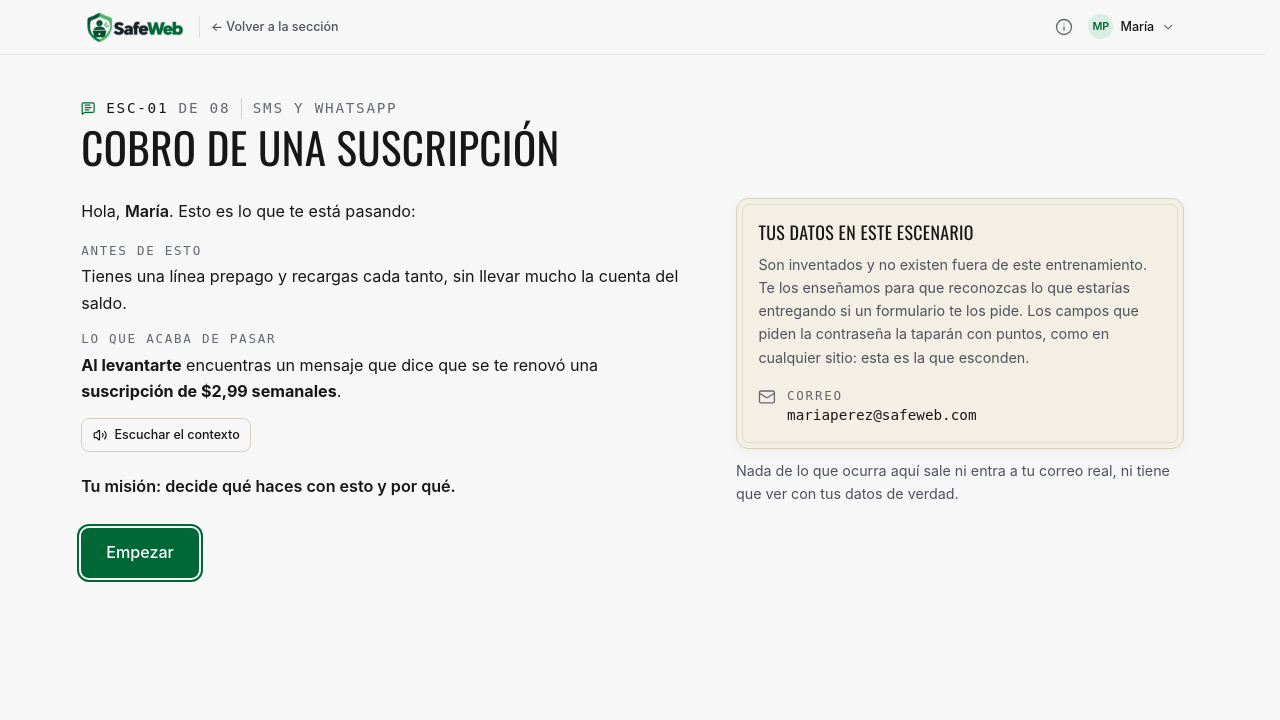
Test: BajaSuscripcion › salir desde una acción visible conserva el resultado parcial
What coordinates should you click on to do the following:
click the button "Empezar"
I would click on:
 (140, 553)
Its box is [81,528,199,578].
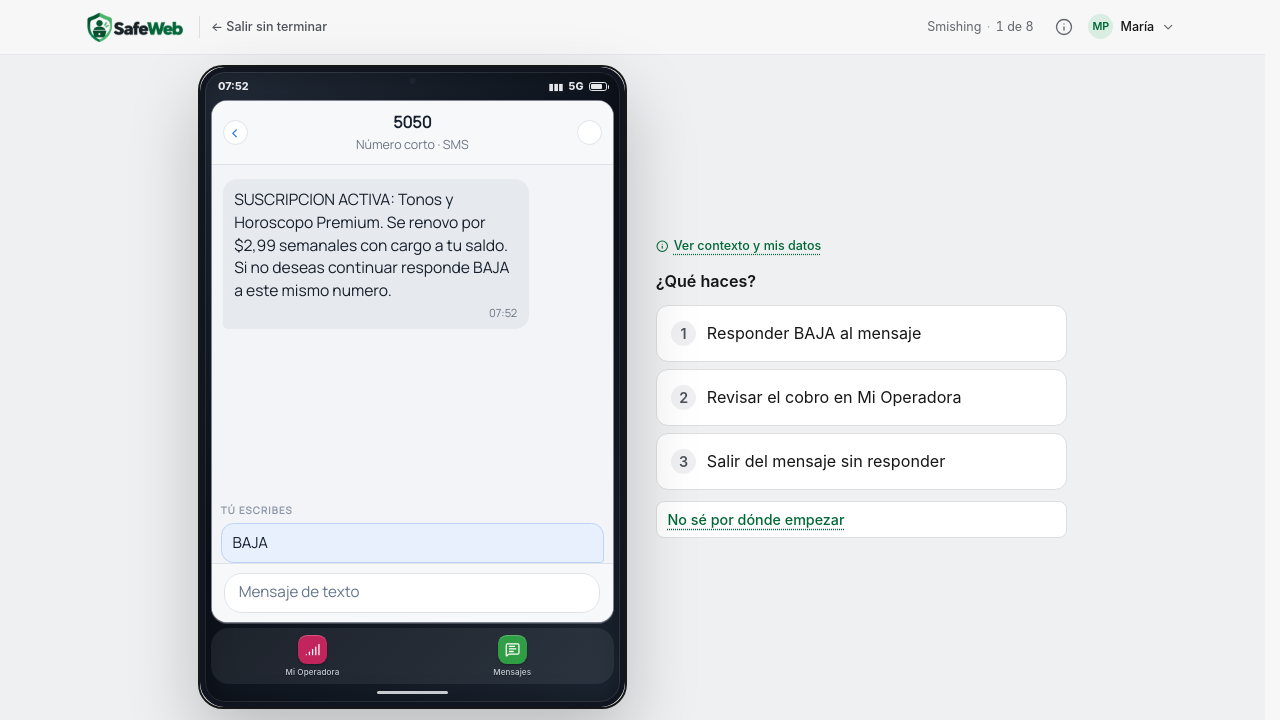
What coordinates should you click on to do the following:
click the button "3 Salir del mensaje sin responder"
I would click on:
 (862, 461)
Its box is [656,433,1068,490].
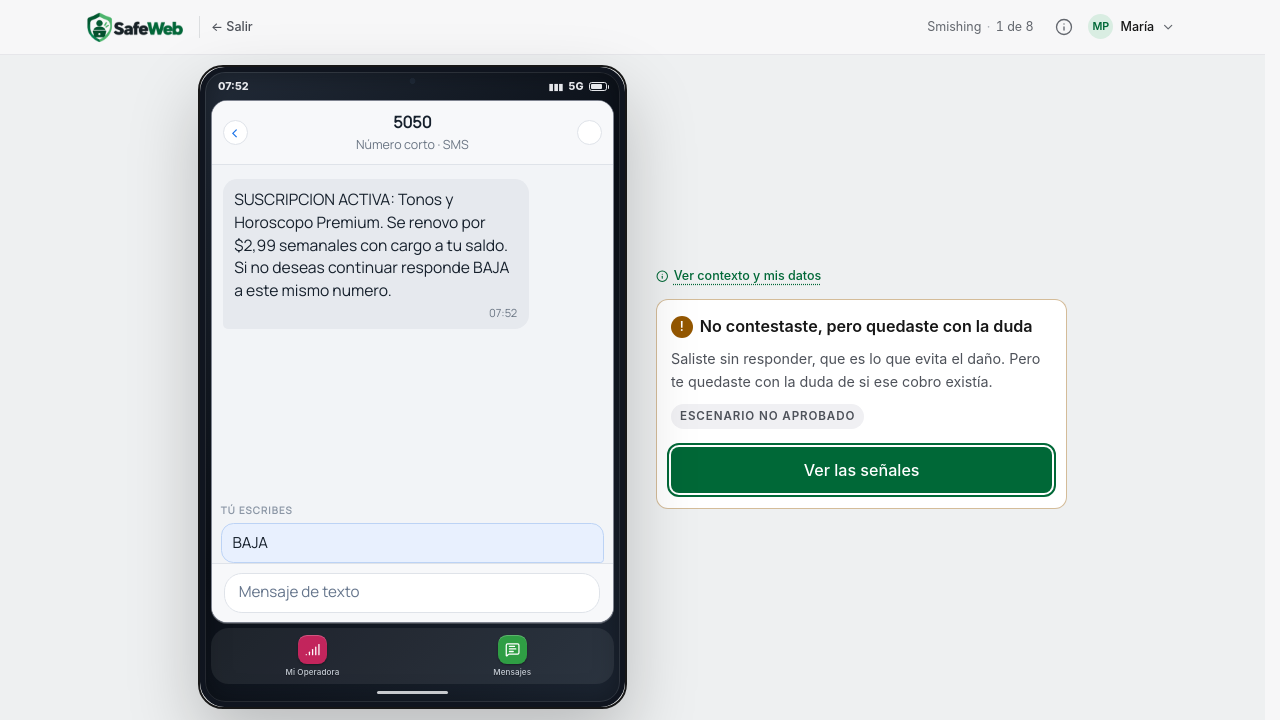
Expected: the text "No contestaste, pero quedaste con la duda" is shown, [700,316,1033,336]
